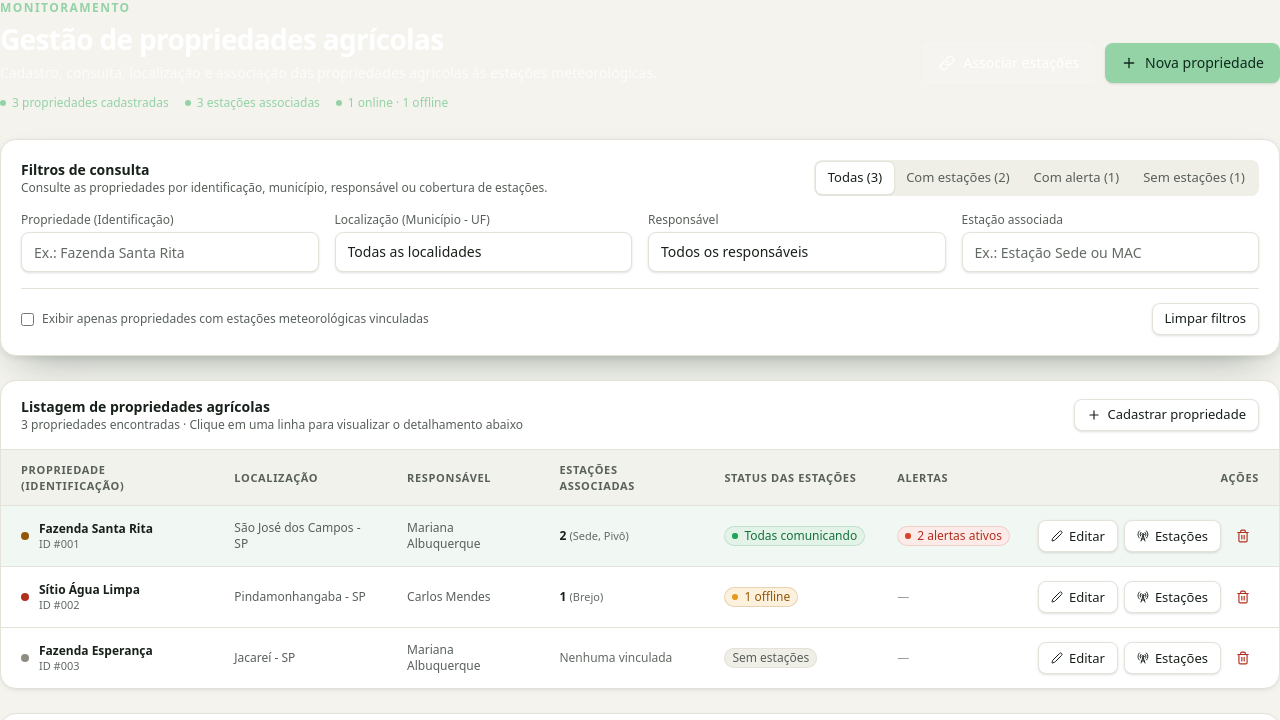
Scenario: PropertiesPage - [QA] CRUD e Associação de Propriedades › Cenário 5b: sem trocar o responsável, envia o responsável exibido no formulário
Click the button "Nova propriedade": x=1193, y=63 x1=1105 y1=43 x2=1279 y2=83
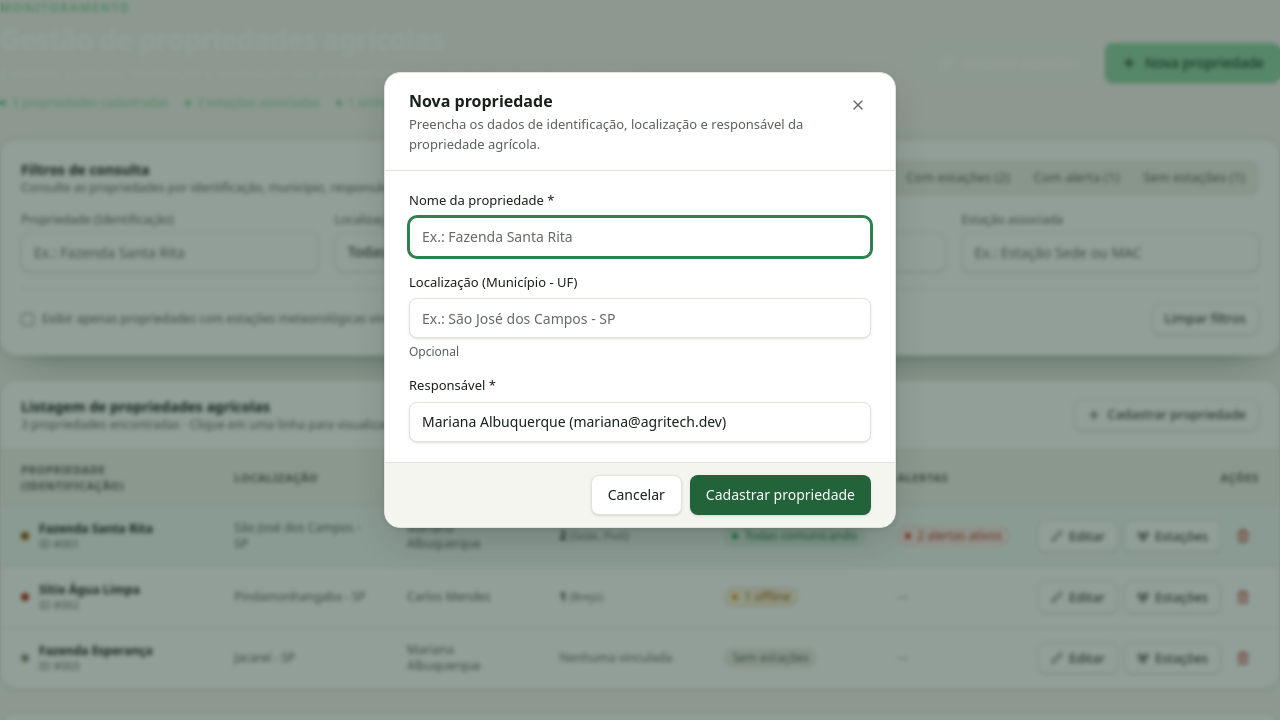
In the field labelled "Nome da propriedade *": x=640, y=236 x1=409 y1=216 x2=871 y2=256, type "Fazenda Padrão"
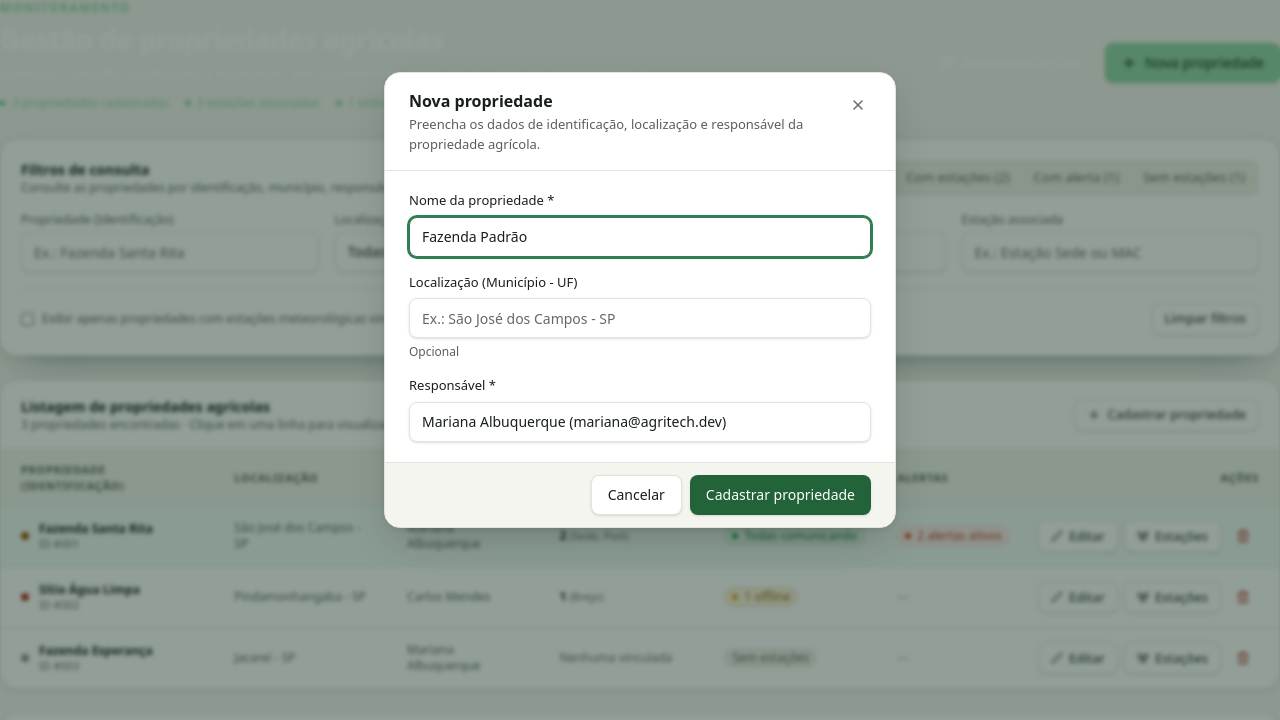
Click the button "Cadastrar propriedade": x=780, y=494 x1=690 y1=474 x2=871 y2=514
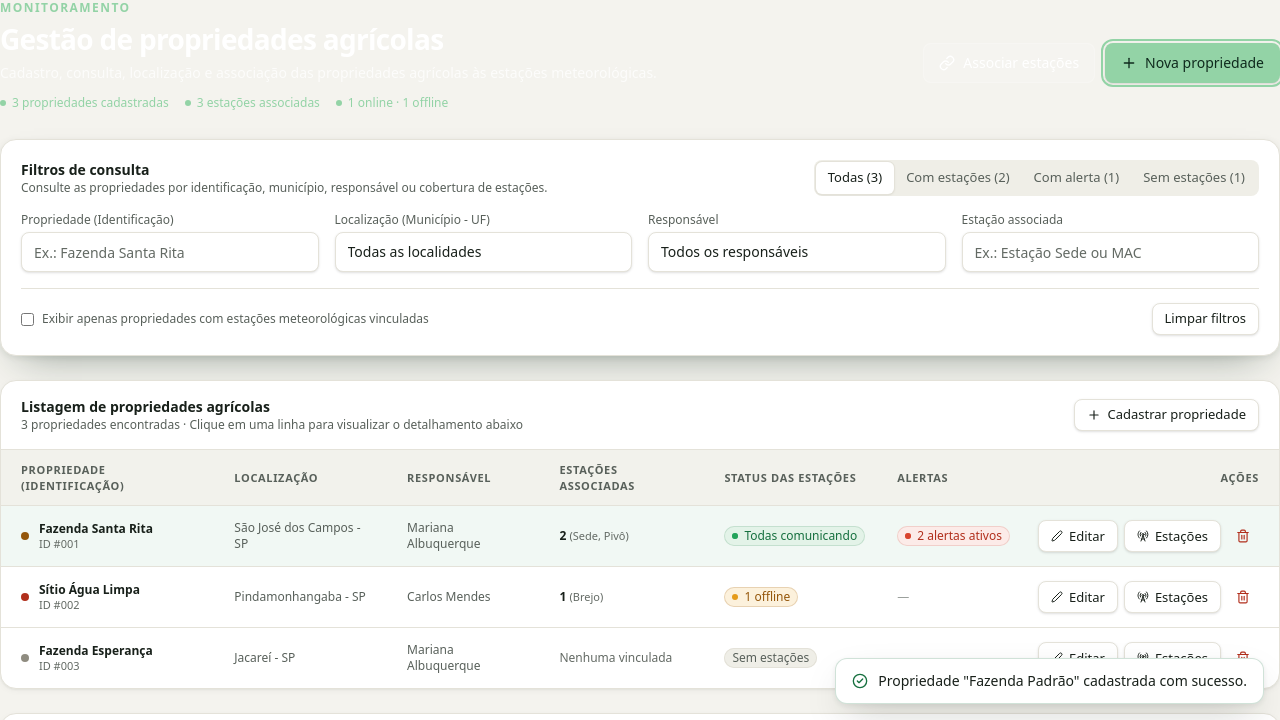
Expected: the text "Propriedade \"Fazenda Padrão\" cadastrada com sucesso." is shown, x1=835 y1=658 x2=1264 y2=704
